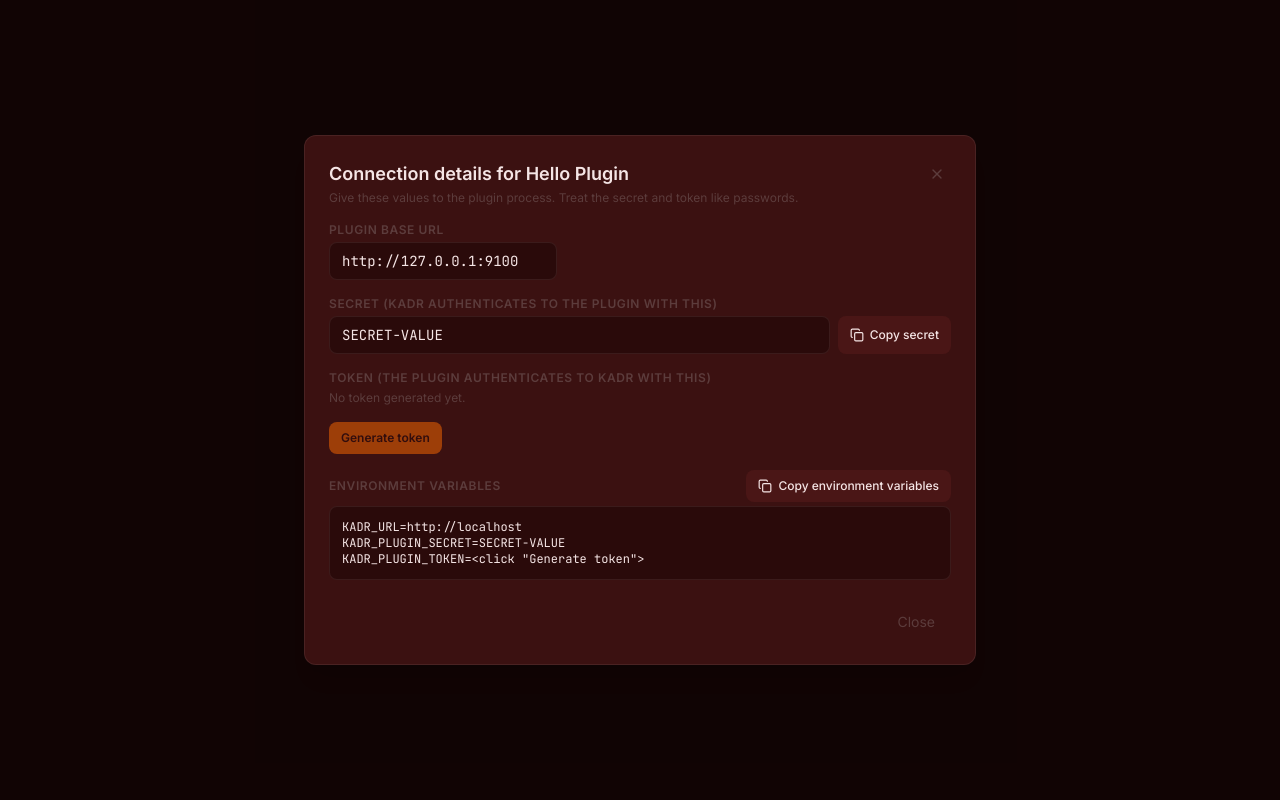
ConnectionDialog › handles clipboard failure and clears error on subsequent success
Expected: the field showing "SECRET-VALUE" is shown, [329,316,830,354]
Click the button "Copy secret".
click(894, 335)  # box [838,316,951,354]
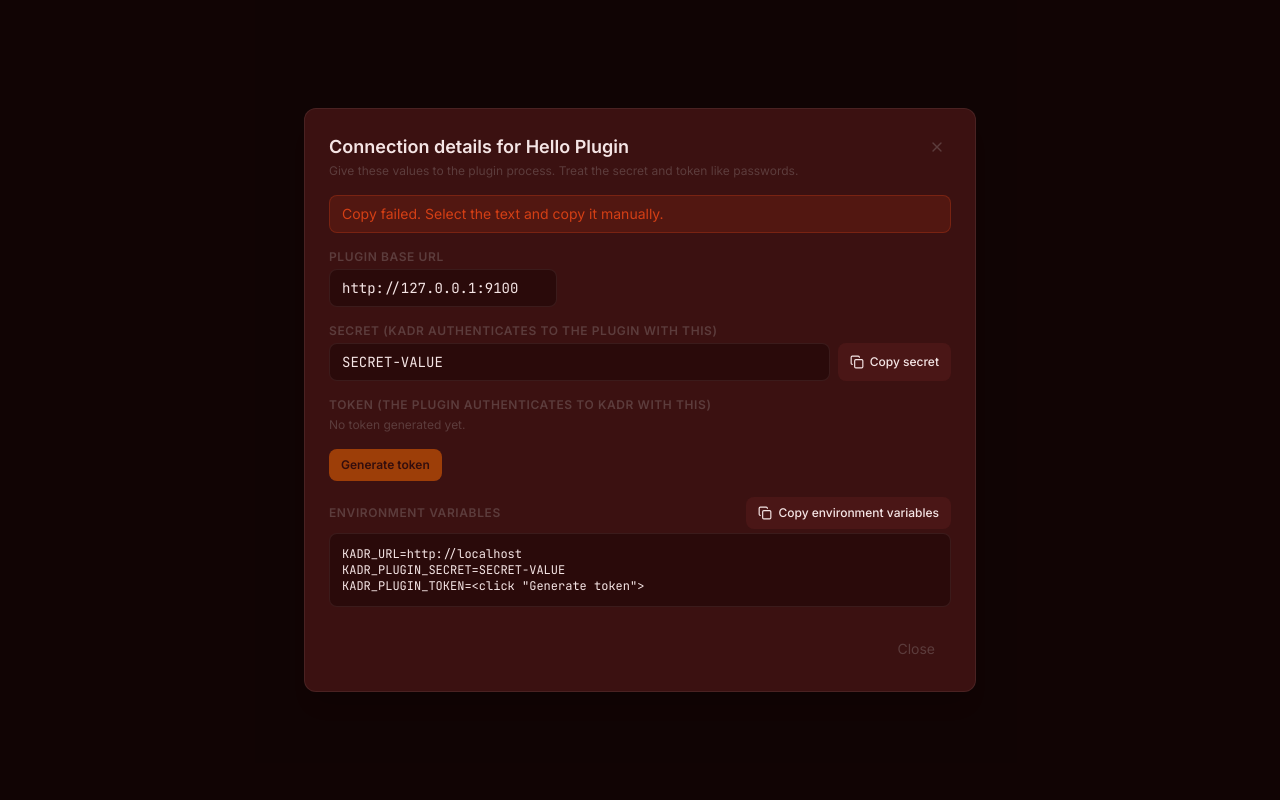
Expected: the text "Copied" is not shown
Expected: the message reads "Copy failed. Select the text and copy it manually.", [342,205,664,222]
Click the button "Copy secret".
click(894, 362)  # box [838,343,951,381]
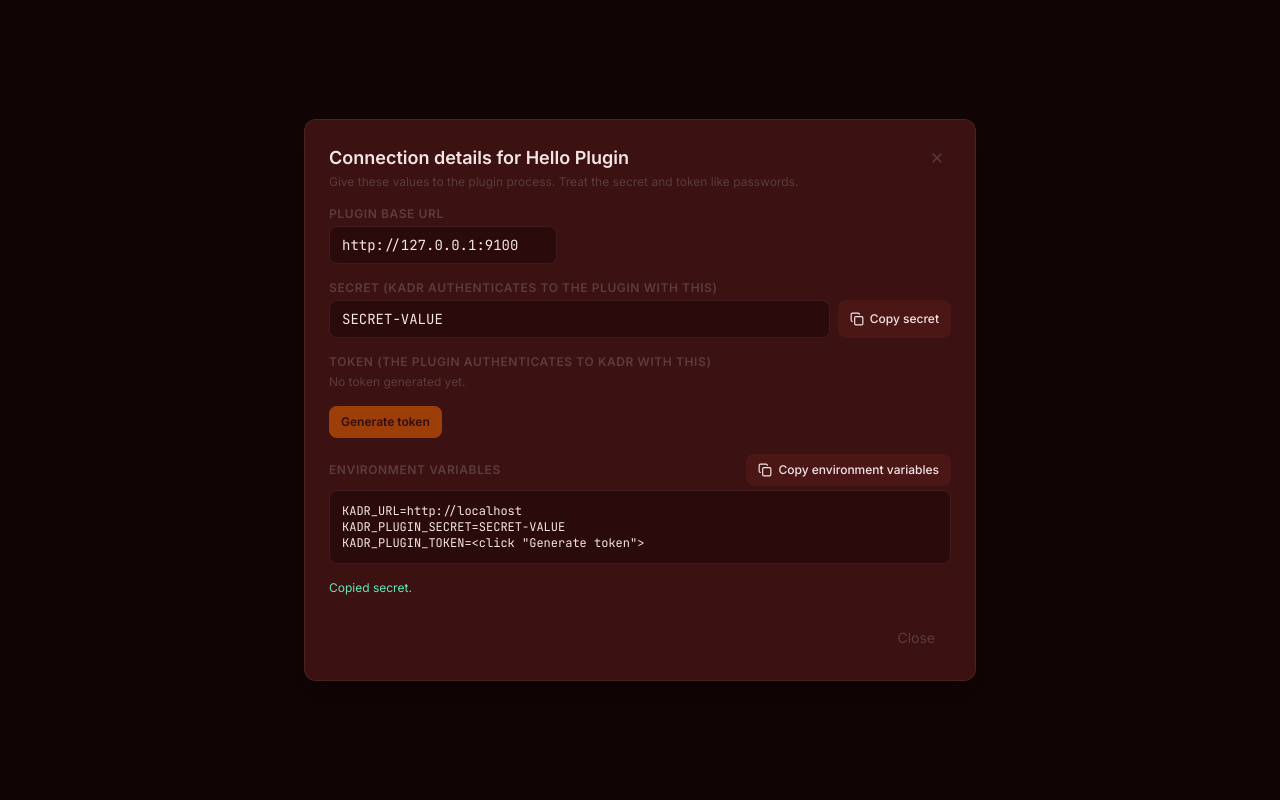
Expected: the text "Copied secret." is shown, [329,580,412,595]
Expected: the message "Copy failed. Select the text and copy it manually." is gone
